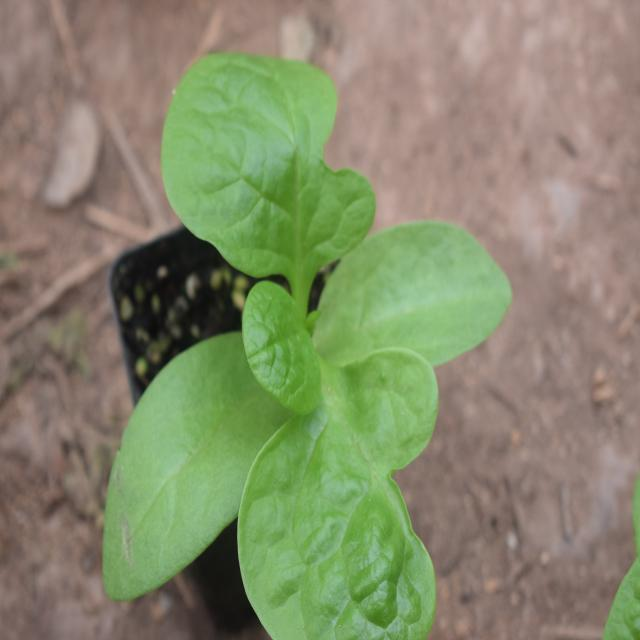Ceylon spinach: (120, 38, 489, 624)
